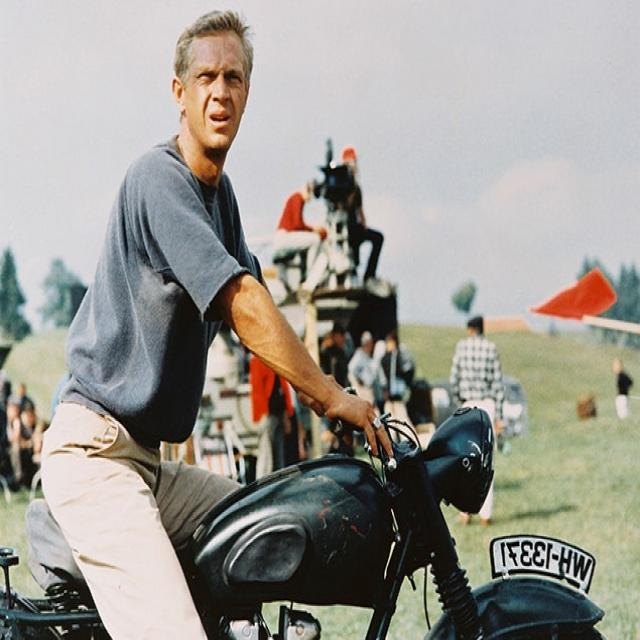Not Wearing Helmet: (141, 16, 289, 249)
